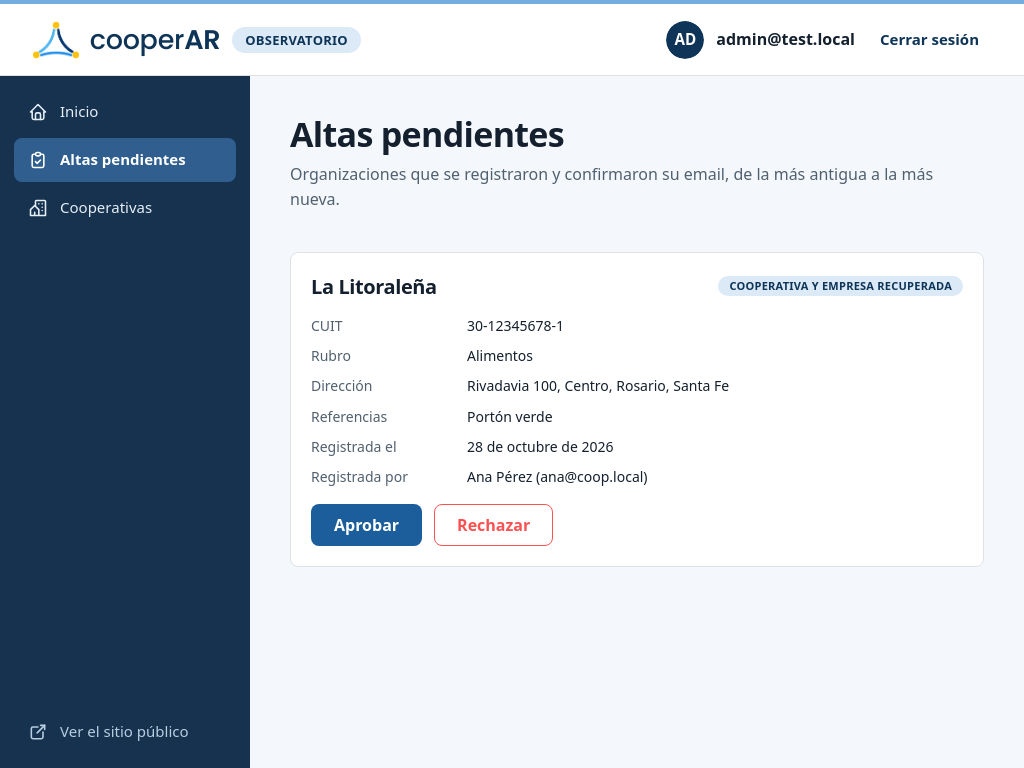
pending organizations › warns when someone else already reviewed the organization
The width and height of the screenshot is (1024, 768).
Click the button "Aprobar".
click(367, 525)  # box [311,504,422,546]
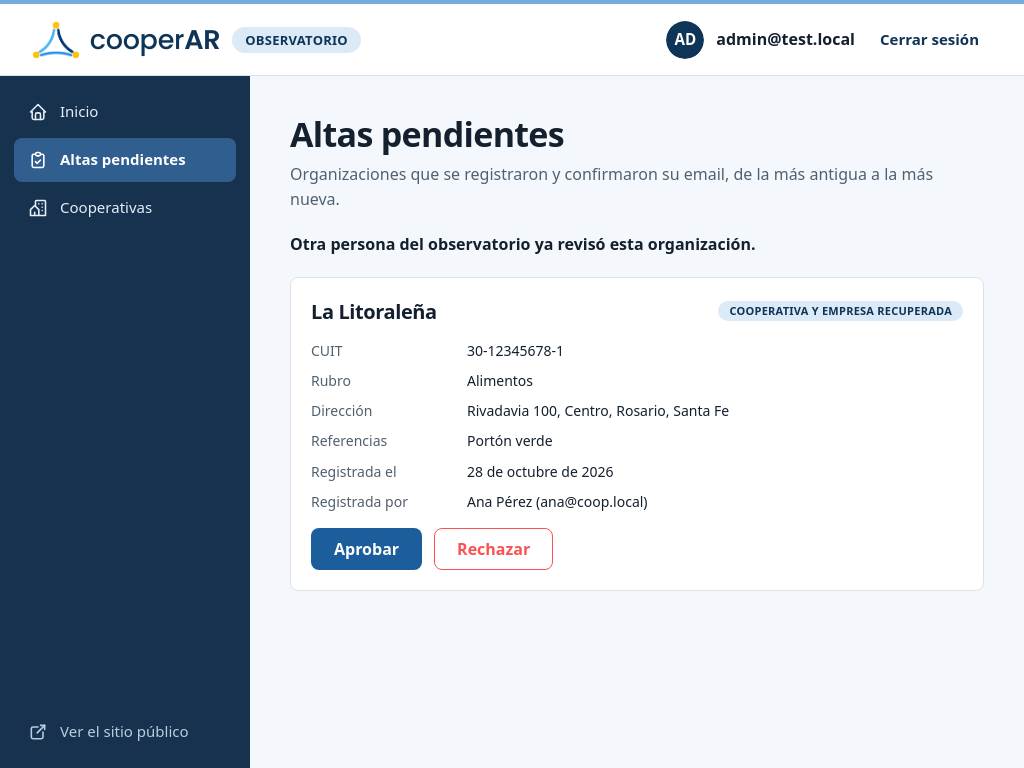
Expected: the text "Otra persona del observatorio ya revisó esta organización." is shown, [290,233,756,255]
